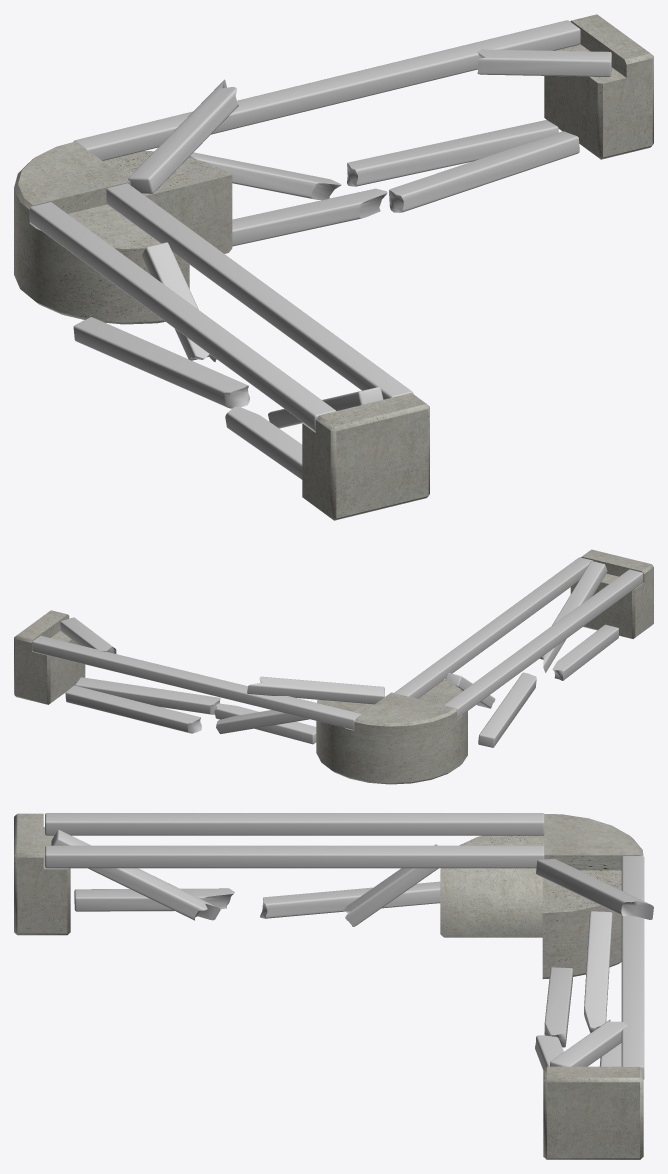
Rendered from Bench01_5.FBX.
3 renders of one model, top to bottom at view 1: azimuth 30°, elevation 25°; view 2: azimuth 150°, elevation 25°; view 3: azimuth 270°, elevation 25°, orthographic. The views are drawn at different scales.
Visible parts, largest first — view 1: Wood, Concrete; view 2: Wood, Concrete; view 3: Wood, Concrete.
Boxes of the visible parts, <box> form: Wood: <box>29,20,611,479</box>; Concrete: <box>14,14,653,520</box>; Wood: <box>32,557,643,747</box>; Concrete: <box>14,549,653,784</box>; Wood: <box>45,813,653,1079</box>; Concrete: <box>14,813,643,1159</box>.
Bounding box in the file's own units: 111 × 19.86 × 111.
